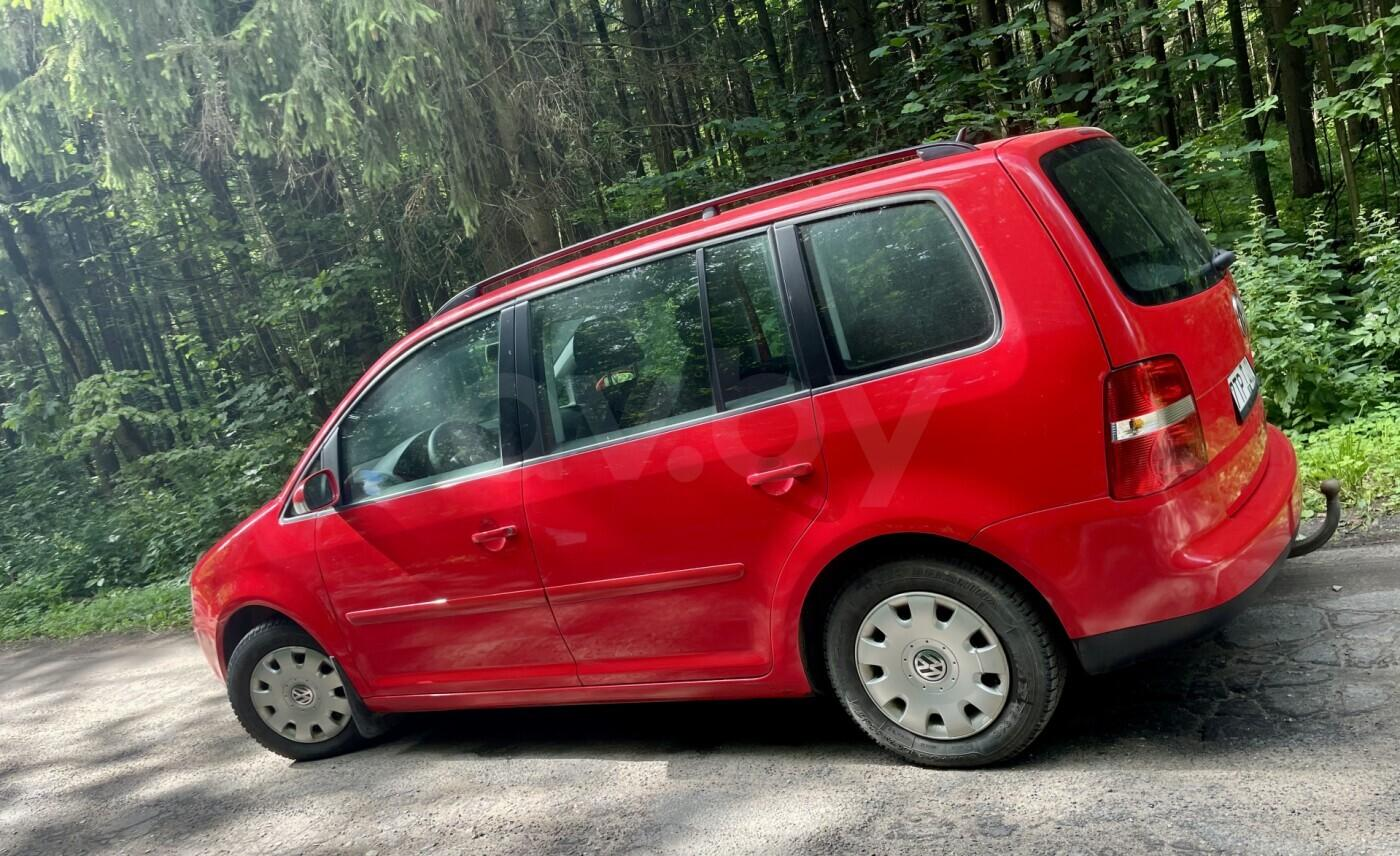Touran_2003-2006: (184, 126, 1309, 766)
